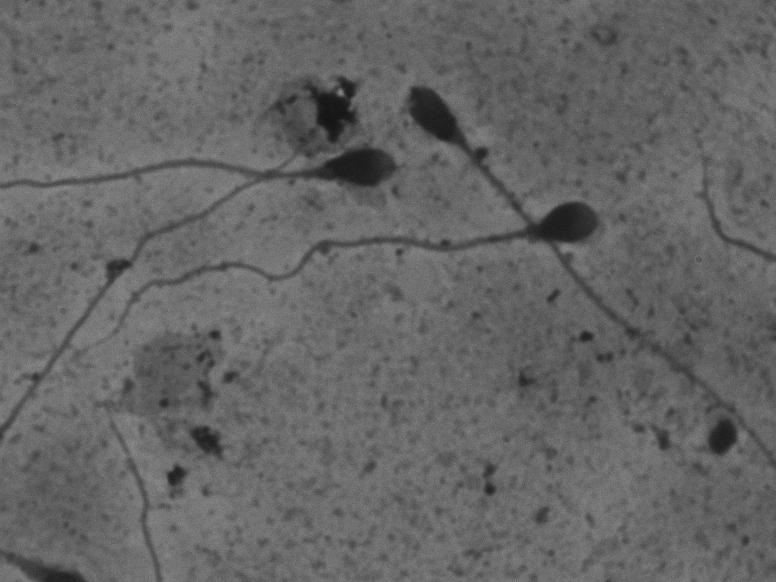Abnormal: (374, 76, 764, 462), (10, 131, 411, 220)
Normal: (70, 190, 627, 365)
